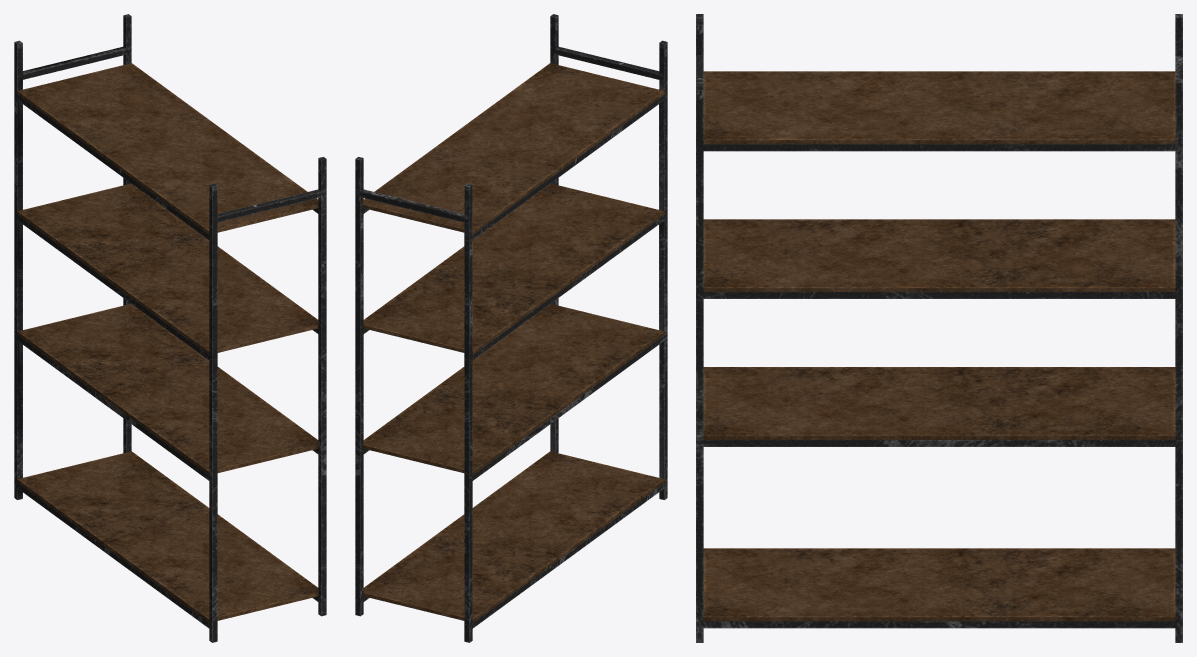
Rendered from low-poly_rack_for_game_use.glb.
3 renders of one model, left to right at view 1: azimuth 30°, elevation 25°; view 2: azimuth 150°, elevation 25°; view 3: azimuth 270°, elevation 25°, orthographic. The views are drawn at different scales.
Parts seen in each view (by area): view 1: Box001__0; view 2: Box001__0; view 3: Box001__0.
Boxes of the visible parts, bbox=[...] form: Box001__0: bbox=[14, 14, 326, 642]; Box001__0: bbox=[355, 14, 667, 642]; Box001__0: bbox=[696, 14, 1182, 642].
Bounding box in the file's own units: 0.5251 × 2 × 1.57.
1 material, 1 textured.
